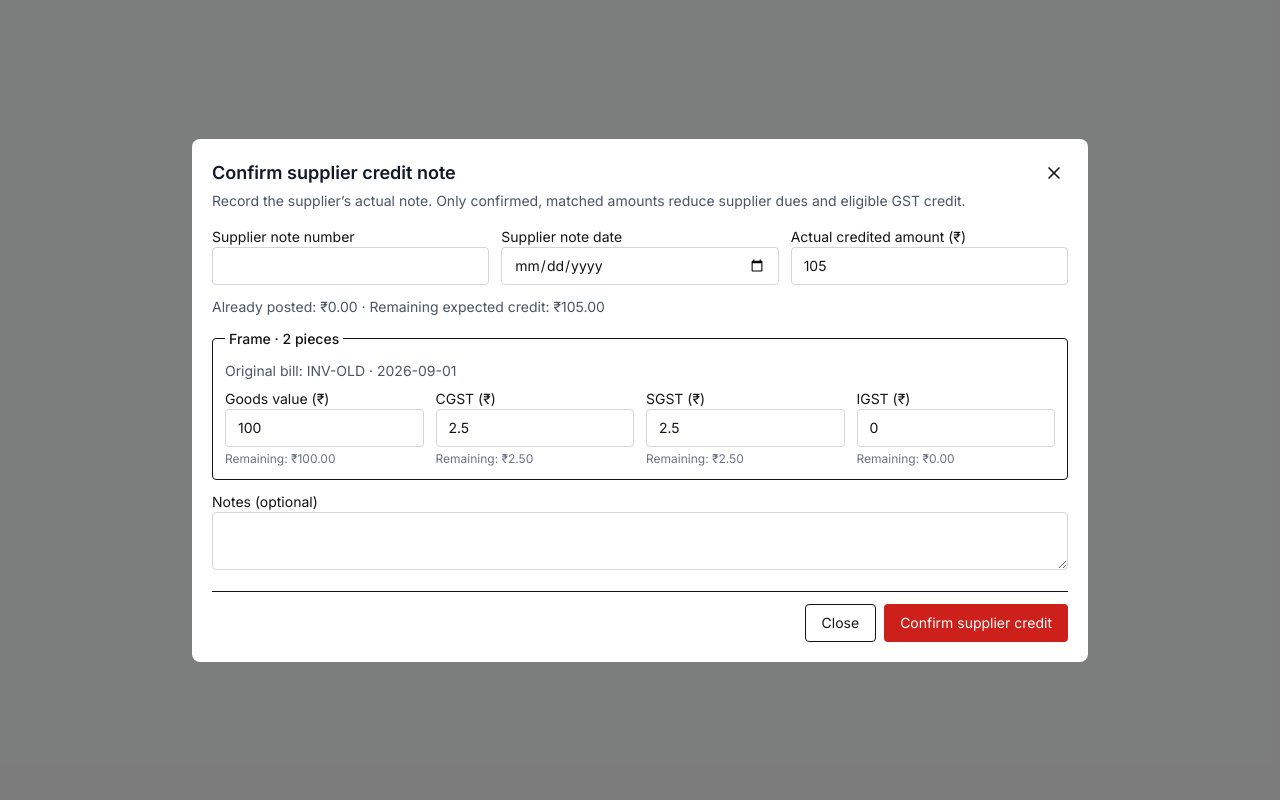
supplier-confirmed credit, separate from internal return notes › requires rechecking the bill after a source conflict
The width and height of the screenshot is (1280, 800).
Step 1. Type "SUP-CN-1" into the field labelled "Supplier note number" → (351, 266), box top-left (212, 246), bottom-right (489, 284)
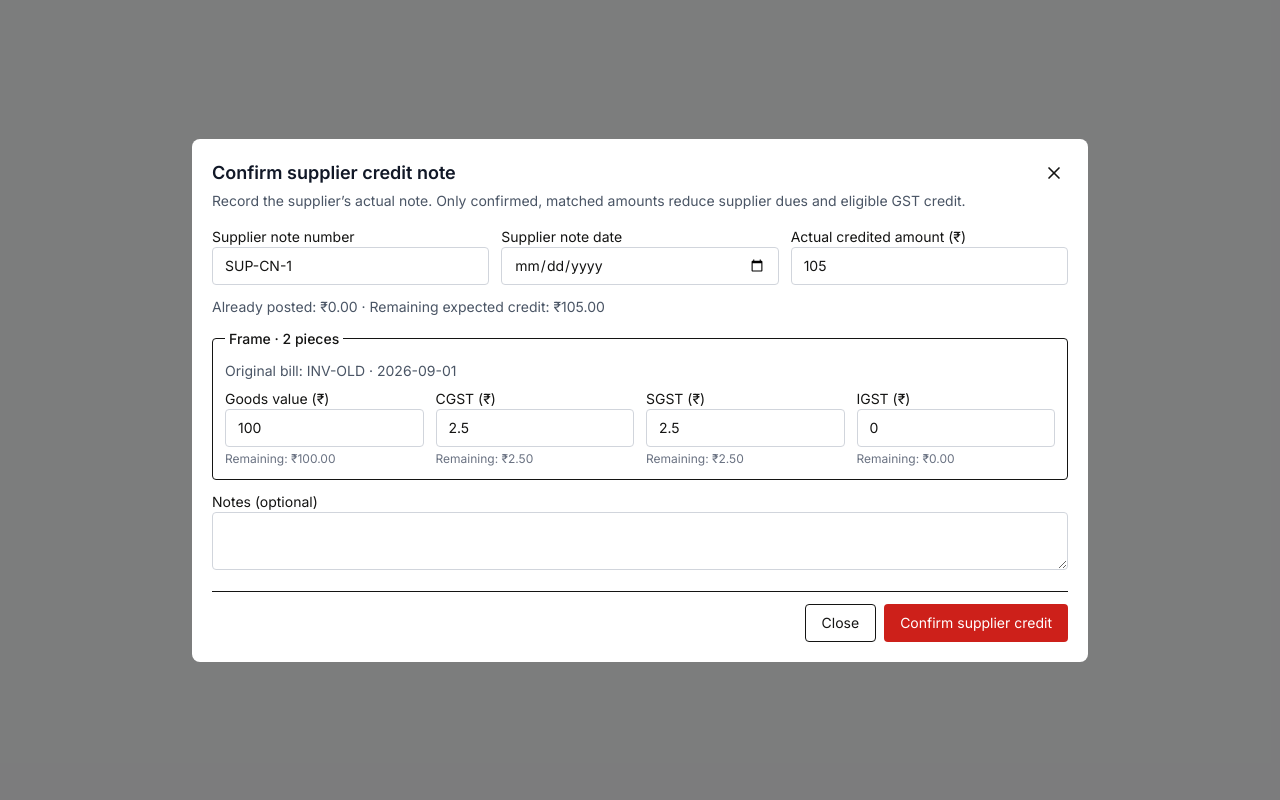
Step 2. Type "2026-10-18" into the date field labelled "Supplier note date" → (640, 266), box top-left (501, 246), bottom-right (779, 284)
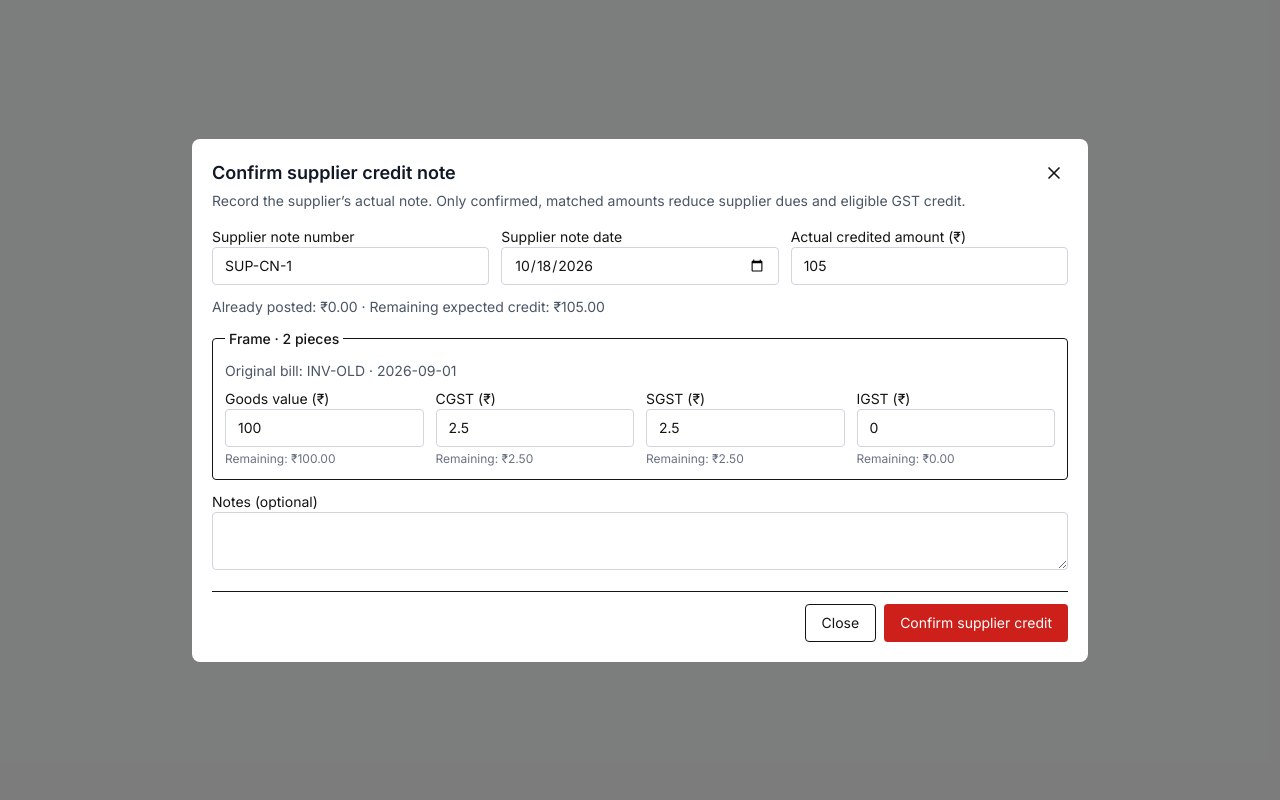
Step 3. Click the button "Confirm supplier credit" → (976, 622), box top-left (884, 604), bottom-right (1068, 642)
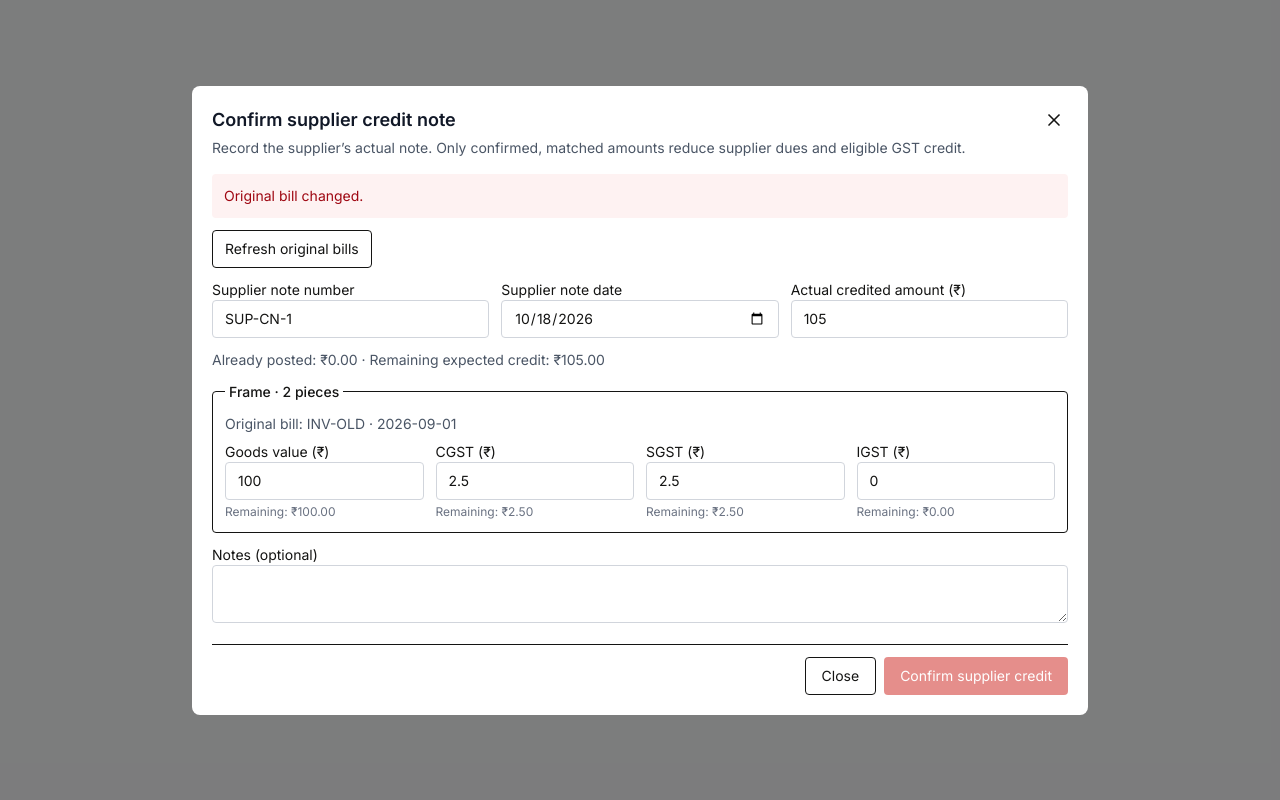
Result: the button "Confirm supplier credit" is disabled at top-left (884, 656), bottom-right (1068, 694)
Step 4. Click the button "Refresh original bills" → (292, 248), box top-left (212, 230), bottom-right (372, 268)
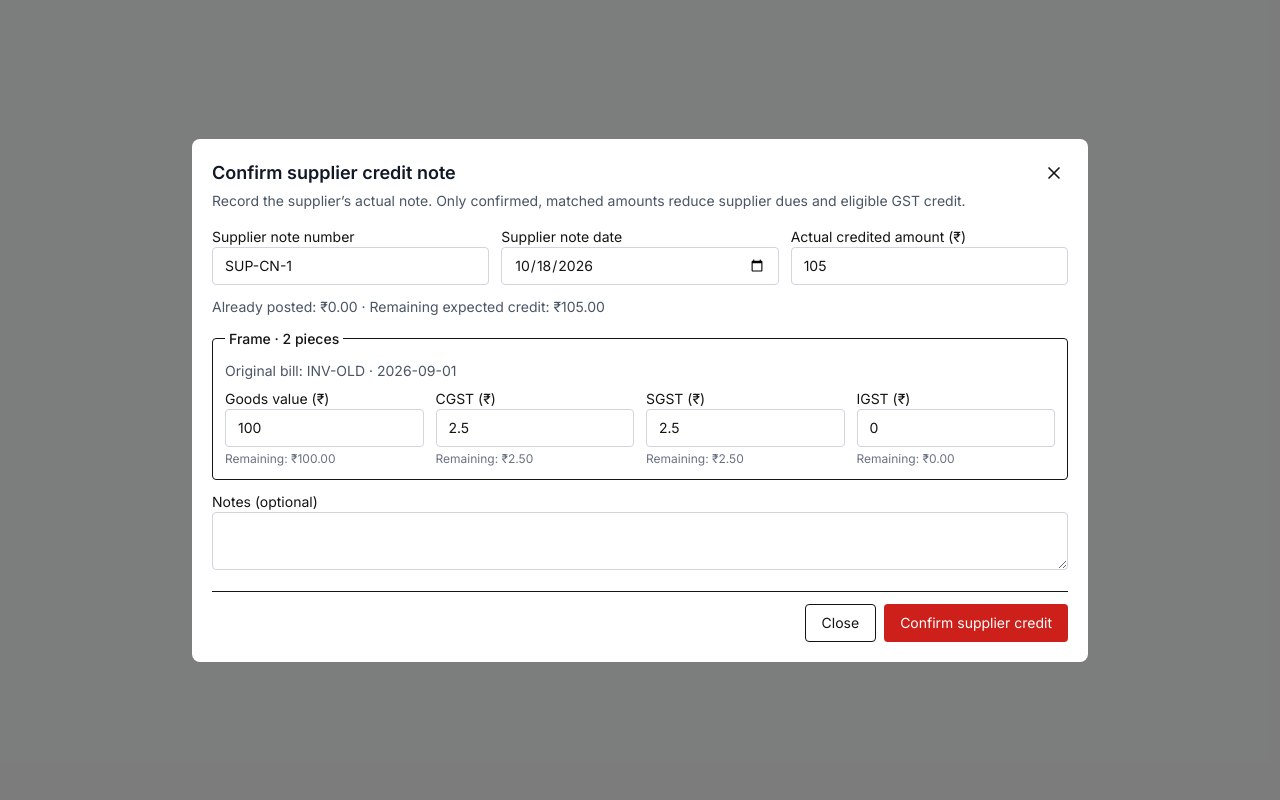
Result: the button "Confirm supplier credit" is enabled at top-left (884, 604), bottom-right (1068, 642)
